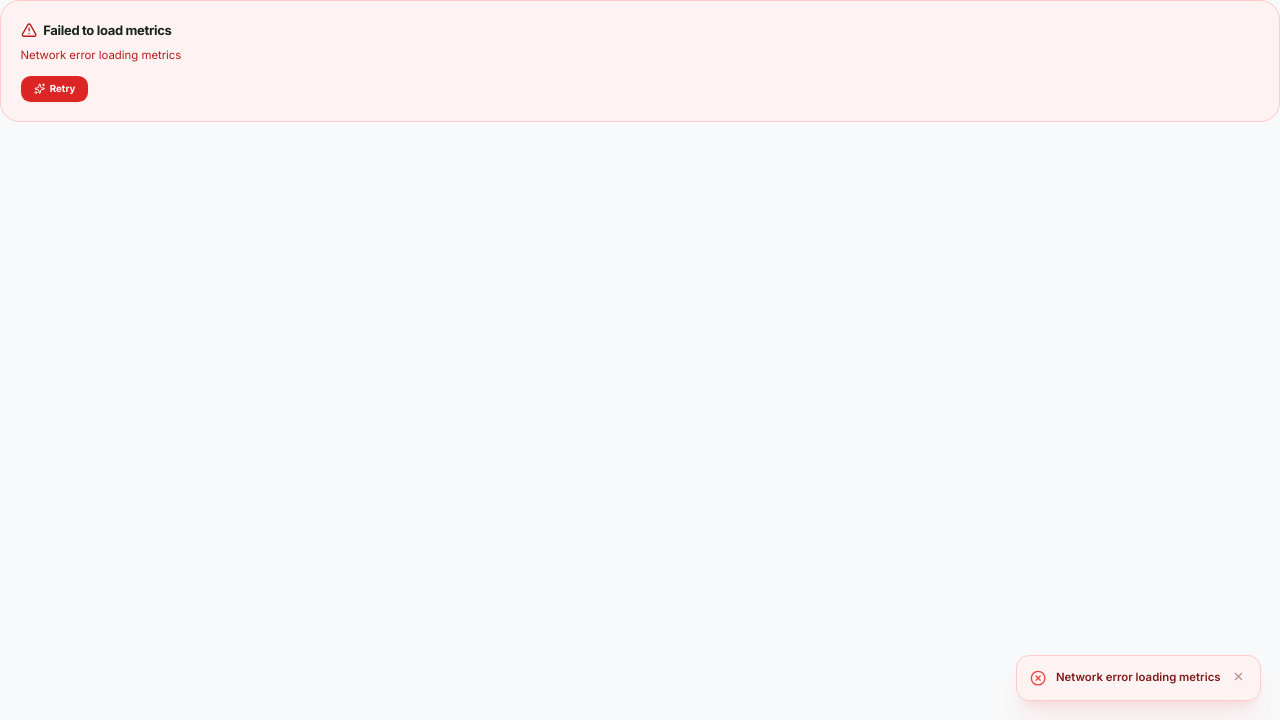
Test: Batch 3: Admin Portal Comprehensive Automated Tests › Admin Dashboard › handles API failure gracefully and allows retry
Expected: the heading "Failed to load metrics" is shown, [43,20,172,40]
Click the button "Retry" at (54, 89), box [20,76,88,102]
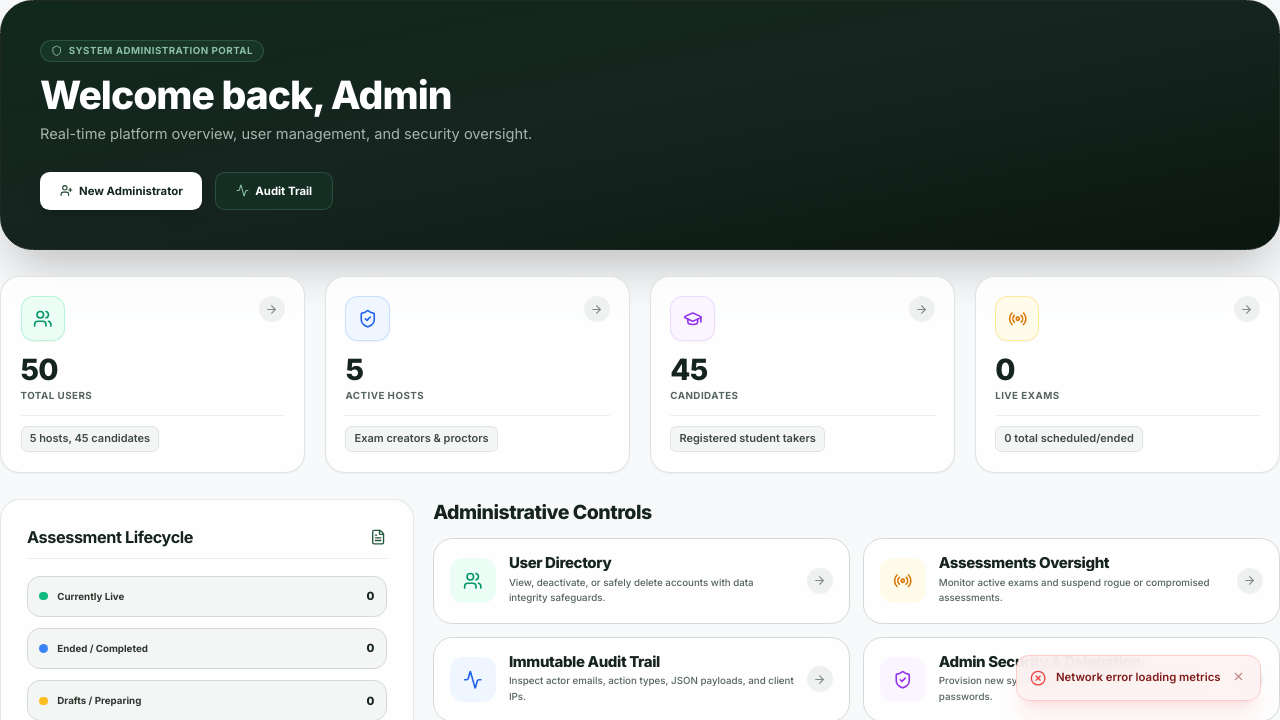
Expected: the text "Total Users" is shown, [20,390,92,401]
Expected: the heading "50" is shown, [20,352,58,386]
